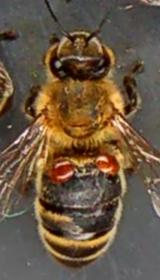varroa_mite: (89, 146, 123, 183), (46, 153, 76, 186)
